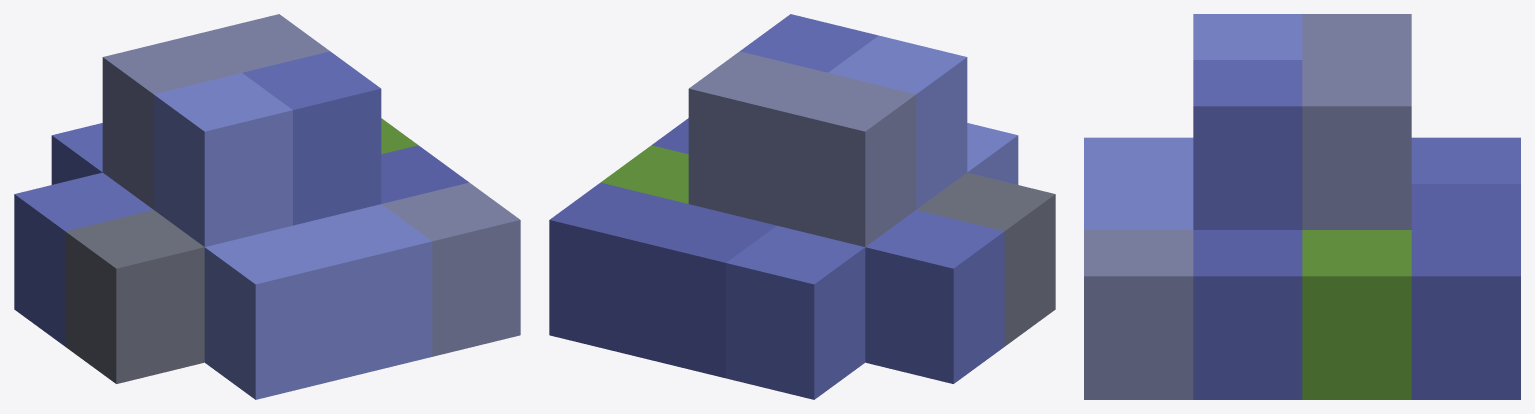
The model's file is RockOutcropSmall.glb.
3 views of the same model, side by side, from view 1: azimuth 30°, elevation 25°; view 2: azimuth 150°, elevation 25°; view 3: azimuth 270°, elevation 25° (orthographic). The views are drawn at different scales.
Parts seen in each view (by area): view 1: RockOutcropSmall; view 2: RockOutcropSmall; view 3: RockOutcropSmall.
Boxes of the visible parts, box(x1,y1,x2,y2) form: RockOutcropSmall: box(14, 14, 520, 399); RockOutcropSmall: box(549, 14, 1055, 399); RockOutcropSmall: box(1084, 14, 1520, 399).
Size of the model in its own units: 8 by 5 by 8.
Materials: 1 (1 with a texture image).
